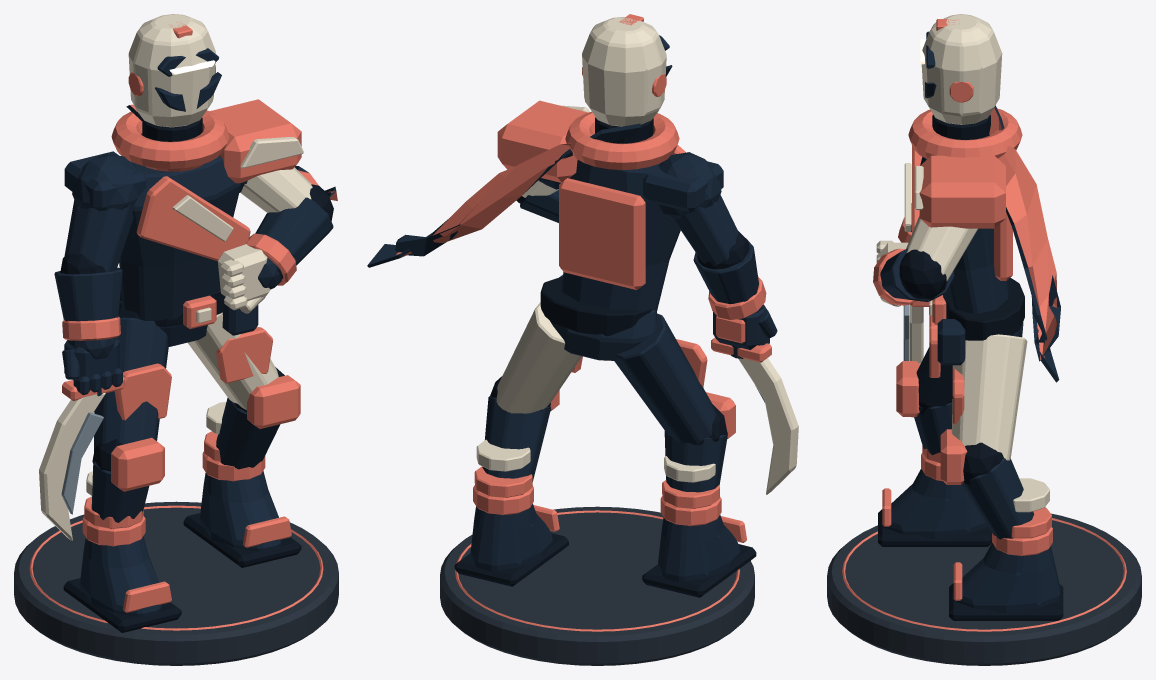
Rendered from sillage.glb.
The picture shows the model from 3 angles, left to right: view 1: azimuth 30°, elevation 25°; view 2: azimuth 150°, elevation 25°; view 3: azimuth 270°, elevation 25°; orthographic projection. The views are drawn at different scales.
Parts seen in each view (by area): view 1: sillage_plinth, sillage_leaning_torso, sillage_narrow_masked_head, sillage_diagonal_coral_chest, sillage_right_leg_thigh, sillage_left_leg_boot, sillage_right_leg_boot, sillage_scarf_neck_wrap, sillage_large_left_shoulder_guard, sillage_curved_dagger_blade, sillage_right_arm_upper_arm, sillage_right_arm_forearm (+35 smaller); view 2: sillage_plinth, sillage_narrow_back_plate, sillage_narrow_masked_head, sillage_right_leg_thigh, sillage_leaning_torso, sillage_flowing_short_scarf, sillage_left_leg_thigh, sillage_right_leg_boot, sillage_left_leg_boot, sillage_large_left_shoulder_guard, sillage_scarf_neck_wrap, sillage_curved_dagger_blade (+25 smaller); view 3: sillage_plinth, sillage_narrow_masked_head, sillage_left_leg_thigh, sillage_flowing_short_scarf, sillage_large_left_shoulder_guard, sillage_left_leg_boot, sillage_right_leg_boot, sillage_leaning_torso, sillage_left_leg_shin, sillage_scarf_neck_wrap, sillage_belt, sillage_left_arm_upper_arm (+21 smaller).
Part boxes in pixels (x1,y1,x2,y2): sillage_plinth: (14,501,338,665); sillage_leaning_torso: (119,155,240,320); sillage_narrow_masked_head: (128,14,215,127); sillage_diagonal_coral_chest: (136,176,250,261); sillage_right_leg_thigh: (94,317,168,451); sillage_left_leg_boot: (200,471,282,551); sillage_right_leg_boot: (80,536,162,616); sillage_scarf_neck_wrap: (111,110,229,168); sillage_large_left_shoulder_guard: (210,99,301,183); sillage_curved_dagger_blade: (39,393,105,540); sillage_right_arm_upper_arm: (64,200,133,271); sillage_right_arm_forearm: (54,267,122,340); sillage_plinth: (440,506,754,665); sillage_narrow_back_plate: (559,178,645,289); sillage_narrow_masked_head: (582,17,666,126); sillage_right_leg_thigh: (614,313,715,444); sillage_leaning_torso: (562,154,680,312); sillage_flowing_short_scarf: (367,123,640,267); sillage_left_leg_thigh: (496,302,581,413); sillage_right_leg_boot: (658,514,740,582); sillage_left_leg_boot: (470,504,552,571); sillage_large_left_shoulder_guard: (497,100,587,182); sillage_scarf_neck_wrap: (565,111,679,169); sillage_curved_dagger_blade: (738,358,798,494); sillage_plinth: (827,513,1141,665); sillage_narrow_masked_head: (921,14,1002,124); sillage_left_leg_thigh: (951,334,1027,460); sillage_flowing_short_scarf: (988,105,1060,382); sillage_large_left_shoulder_guard: (919,155,1005,228); sillage_left_leg_boot: (952,543,1060,613); sillage_right_leg_boot: (881,469,987,539); sillage_leaning_torso: (920,157,1008,313); sillage_left_leg_shin: (962,458,1034,539); sillage_scarf_neck_wrap: (908,108,1022,159); sillage_belt: (945,277,1024,340); sillage_left_arm_upper_arm: (906,215,977,281).
Size of the model in its own units: 1.63 by 2.49 by 1.24.
